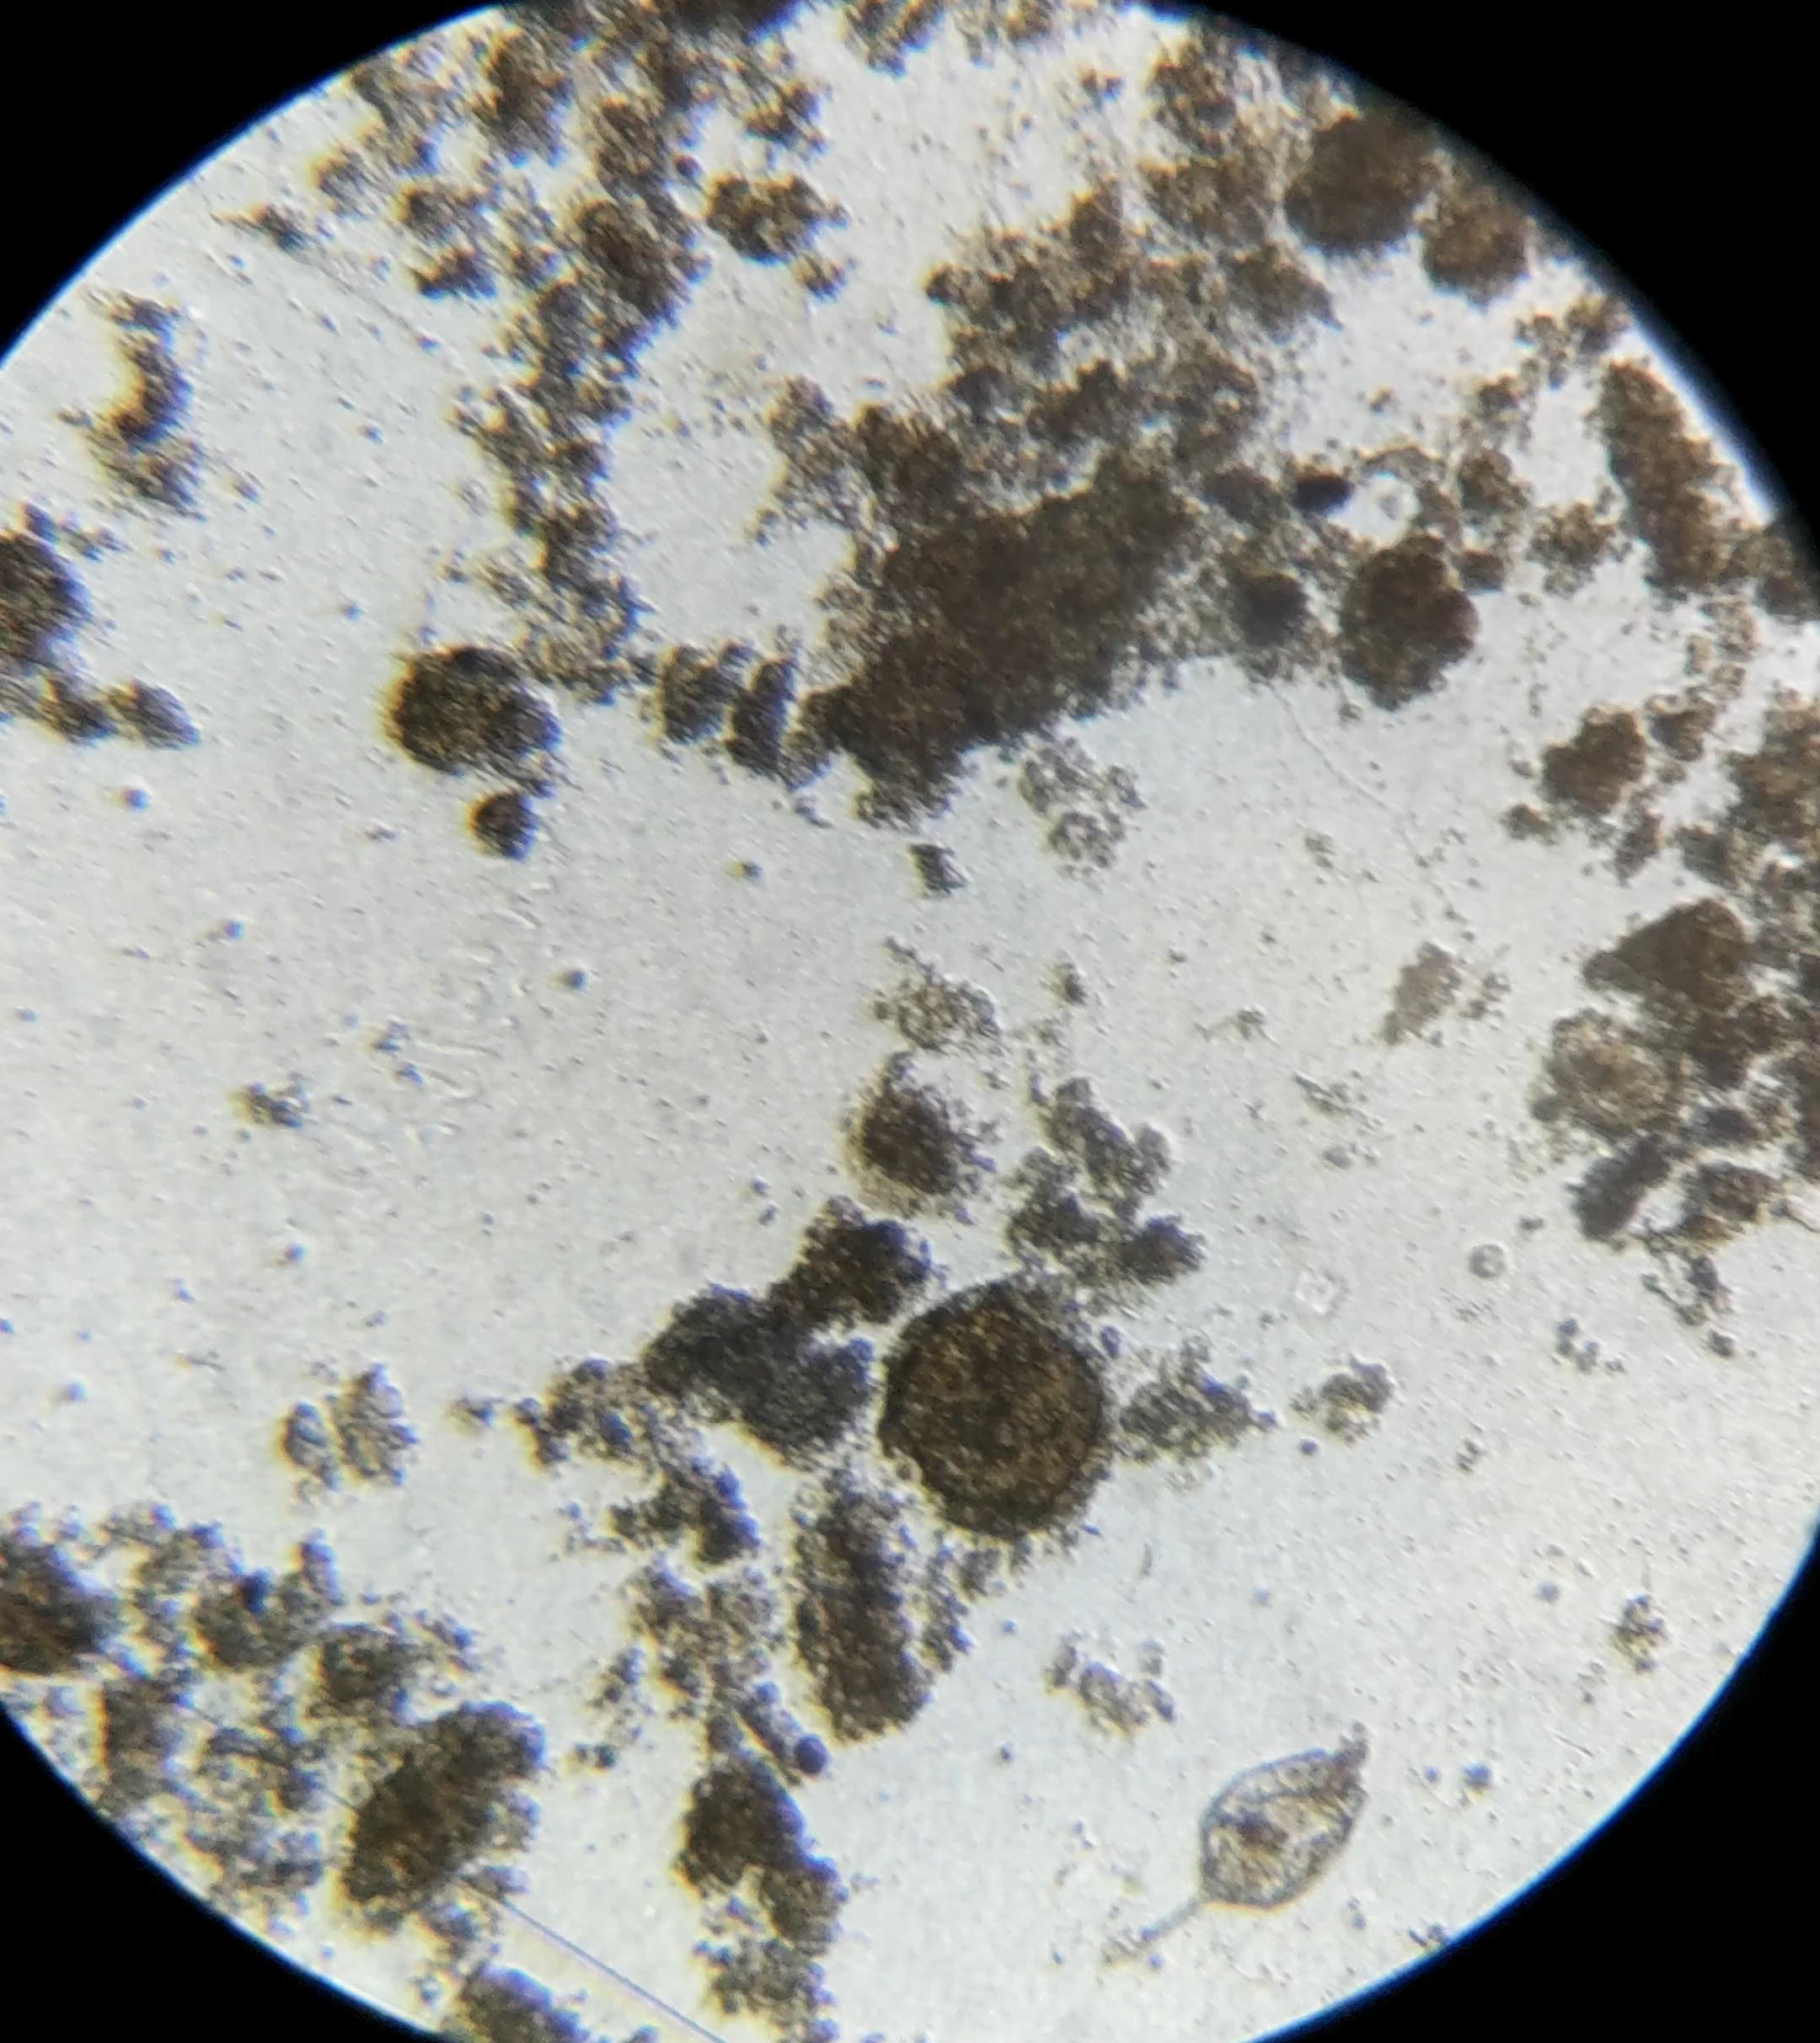Arcella: (896, 1309, 1098, 1520)
Mo: (1140, 1750, 1363, 1941)
